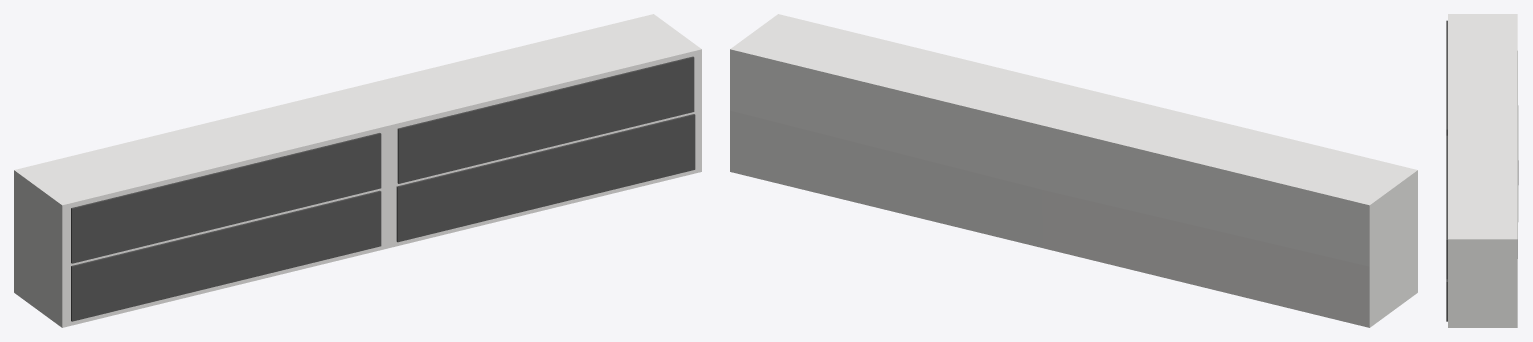
The model's file is Shelf_5.fbx.
3 views of the same model, side by side, from view 1: azimuth 30°, elevation 25°; view 2: azimuth 150°, elevation 25°; view 3: azimuth 270°, elevation 25° (orthographic). The views are drawn at different scales.
Visible parts, largest first — view 1: Shelf_5; view 2: Shelf_5; view 3: Shelf_5.
Part boxes in pixels (left/top/right/bottom): Shelf_5: left=14, top=14, right=701, bottom=327; Shelf_5: left=730, top=14, right=1417, bottom=327; Shelf_5: left=1446, top=14, right=1518, bottom=327.
Bounding box in the file's own units: 311 × 42.05 × 56.92.
